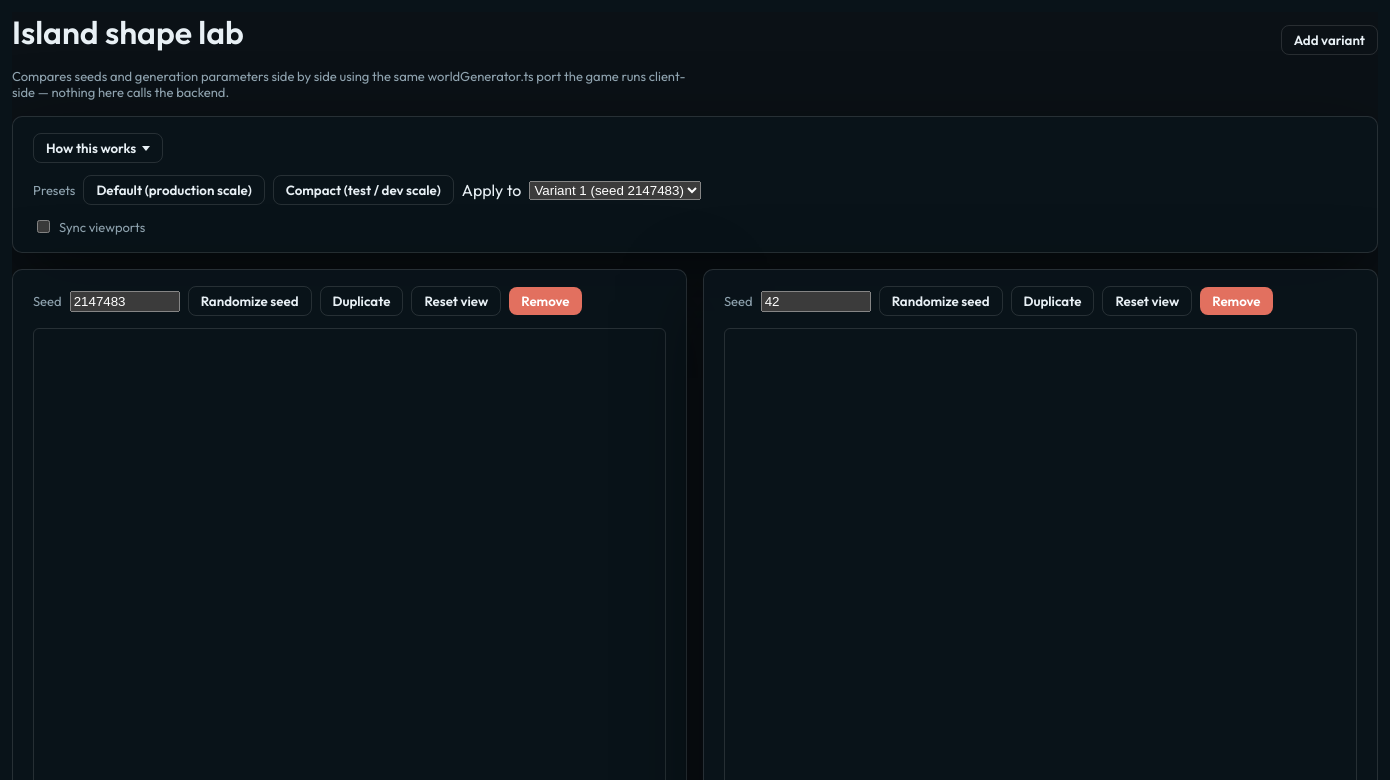
Test case: AdminIslandLabView › removing a variant drops its card, and the last one cannot be removed
Click the 1st button with test id "remove-variant": click(545, 301) 509,287 -> 582,315
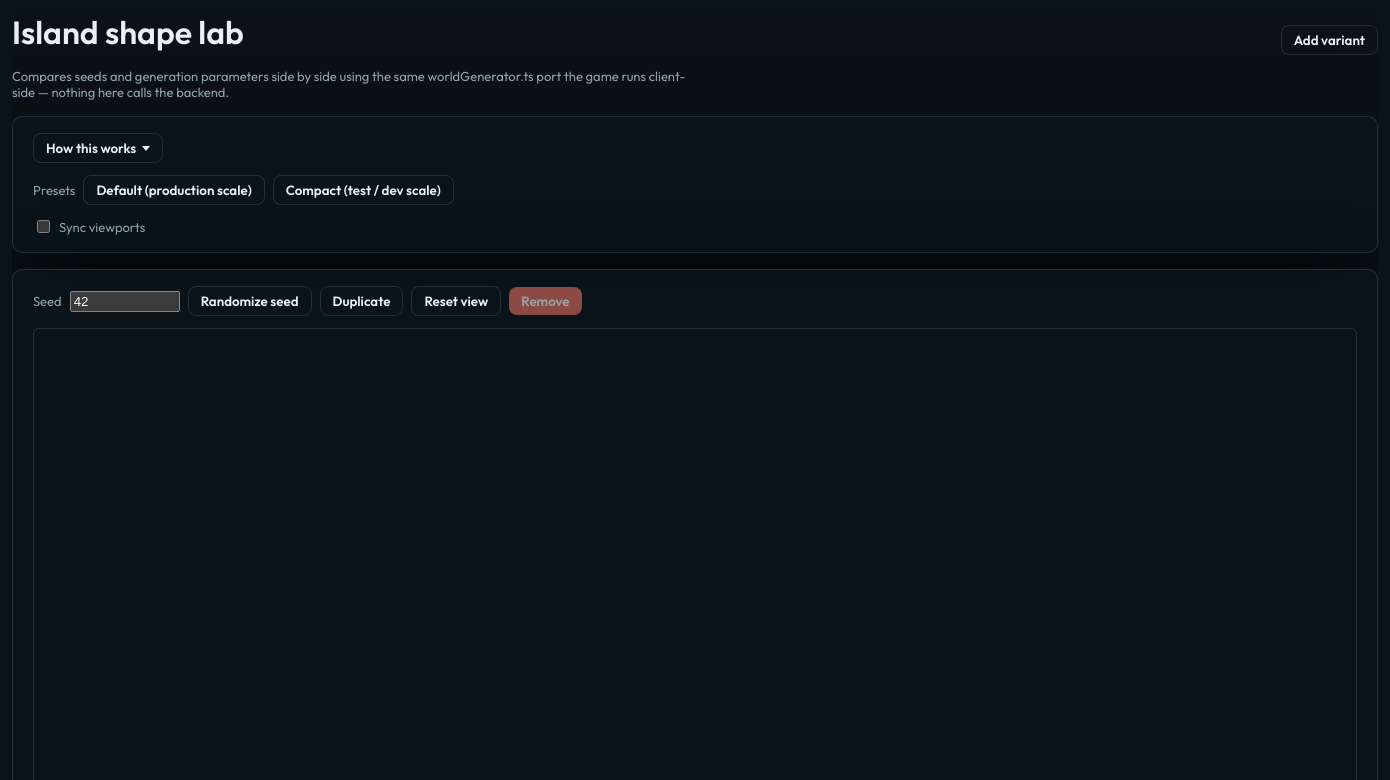
expect the button with test id "remove-variant" is disabled: met, box 509,287 -> 582,315
